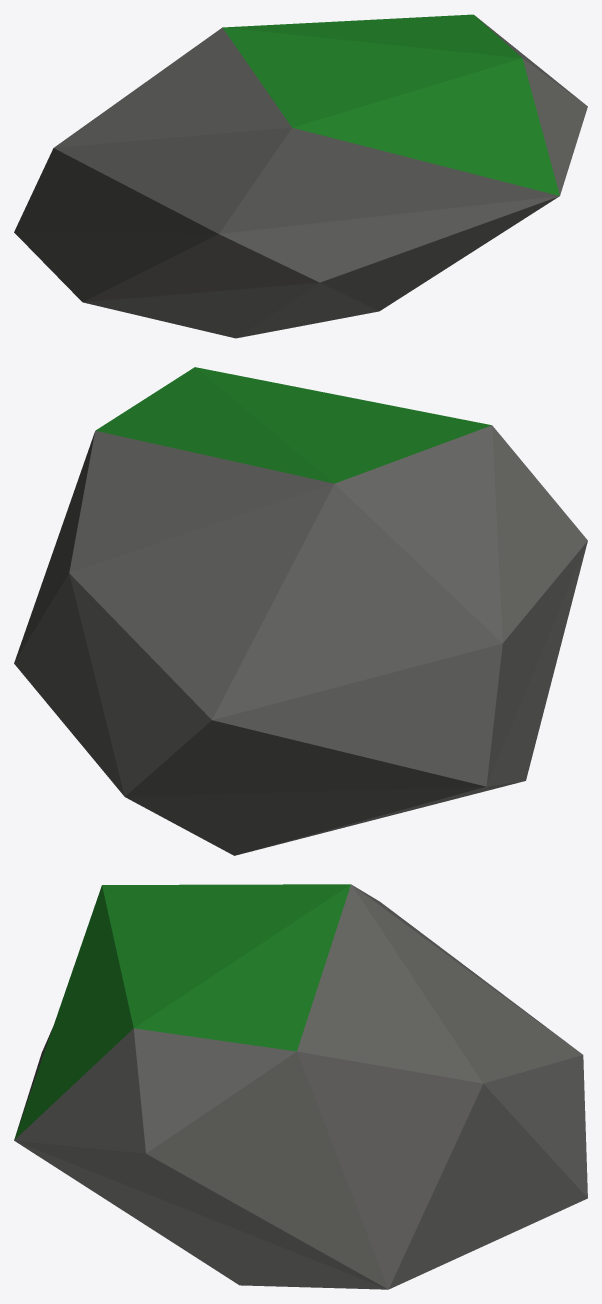
File: Piedra.fbx
3 views of the same model, one above another, from view 1: azimuth 30°, elevation 25°; view 2: azimuth 150°, elevation 25°; view 3: azimuth 270°, elevation 25° (orthographic). The views are drawn at different scales.
Parts seen in each view (by area): view 1: Esfera geodésica.001; view 2: Esfera geodésica.001; view 3: Esfera geodésica.001.
Boxes of the visible parts, left/top/right/bottom form: Esfera geodésica.001: left=14, top=14, right=587, bottom=338; Esfera geodésica.001: left=14, top=367, right=587, bottom=855; Esfera geodésica.001: left=14, top=884, right=587, bottom=1289.
Size of the model in its own units: 1424 by 837 by 1298.
